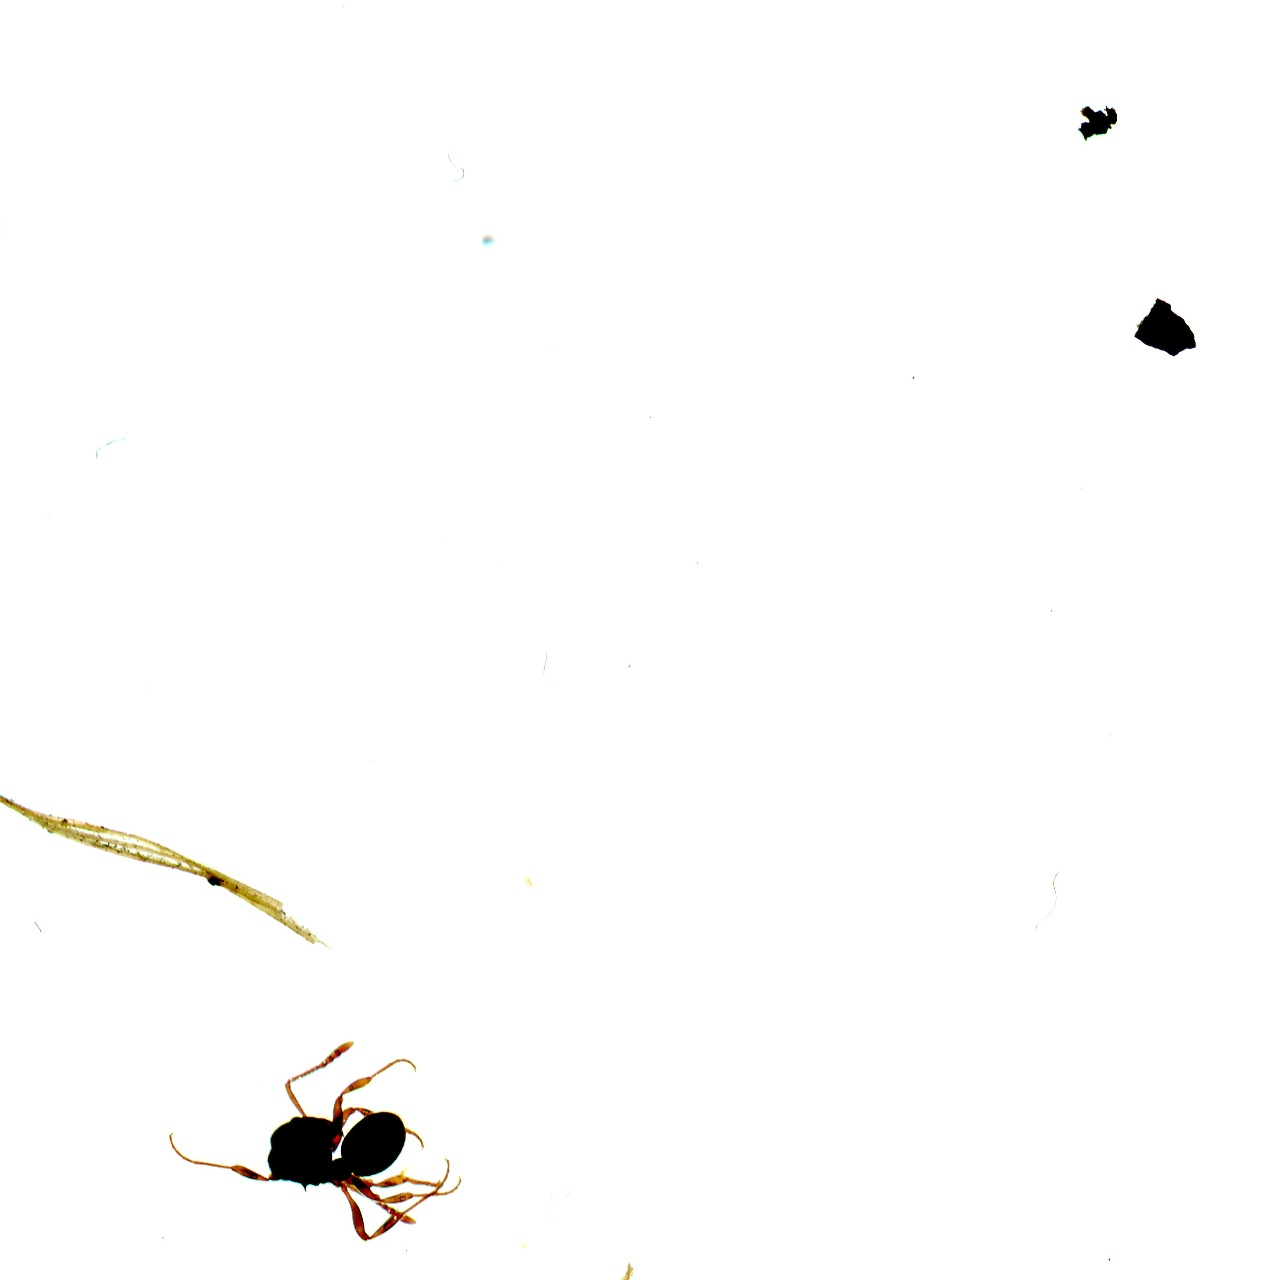arthropod: (155, 1033, 470, 1241)
